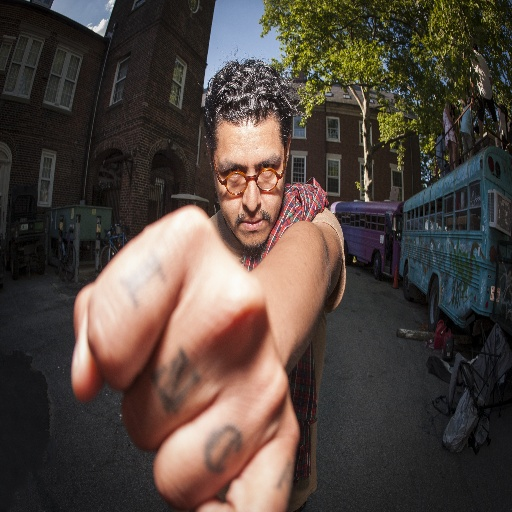hand: (66, 199, 298, 511)
